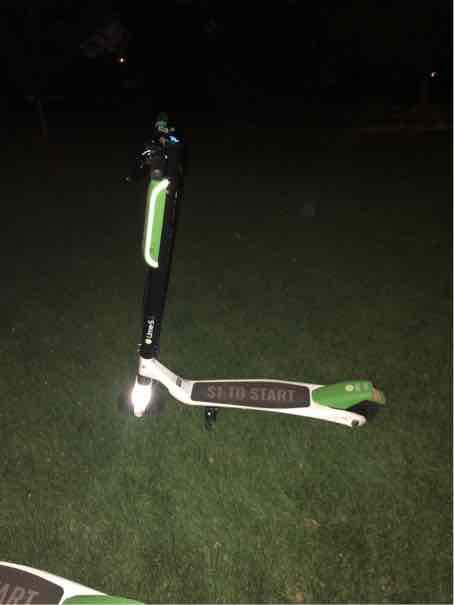scooter: (121, 112, 399, 434)
